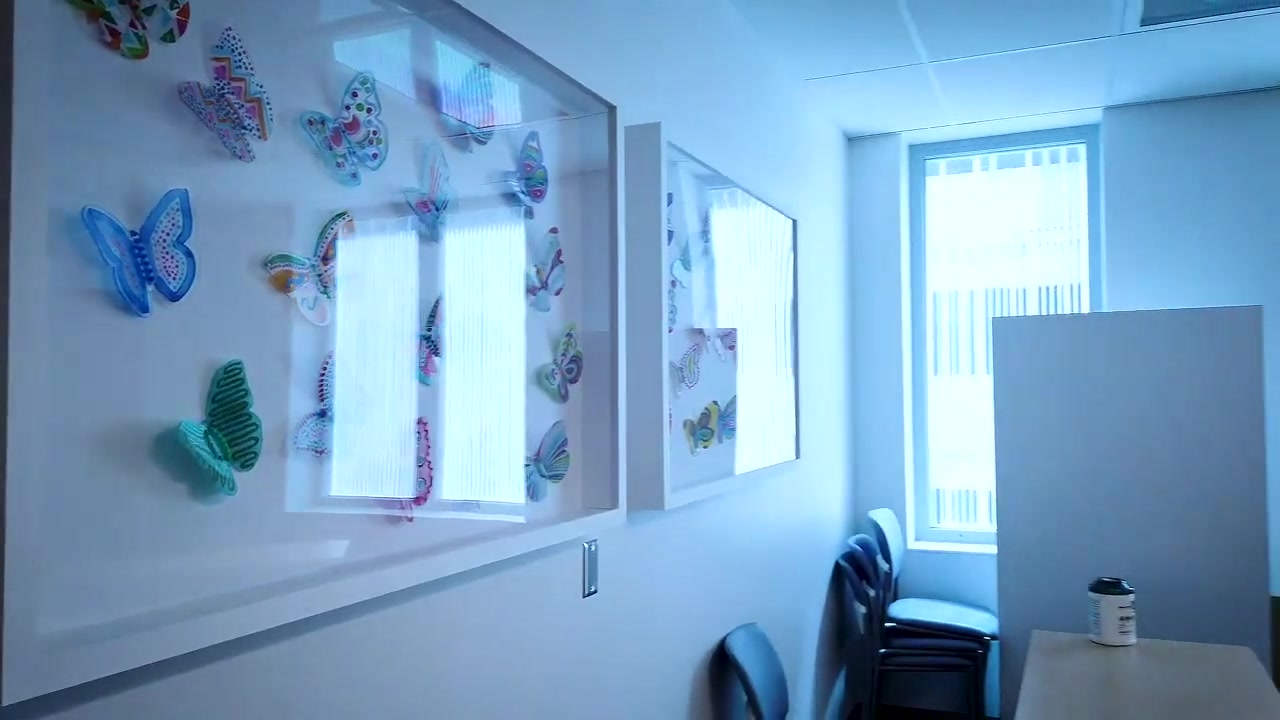chair: (866, 508, 999, 720), (846, 533, 991, 720), (835, 550, 979, 720), (722, 621, 789, 720)
table: (1014, 629, 1280, 720)
